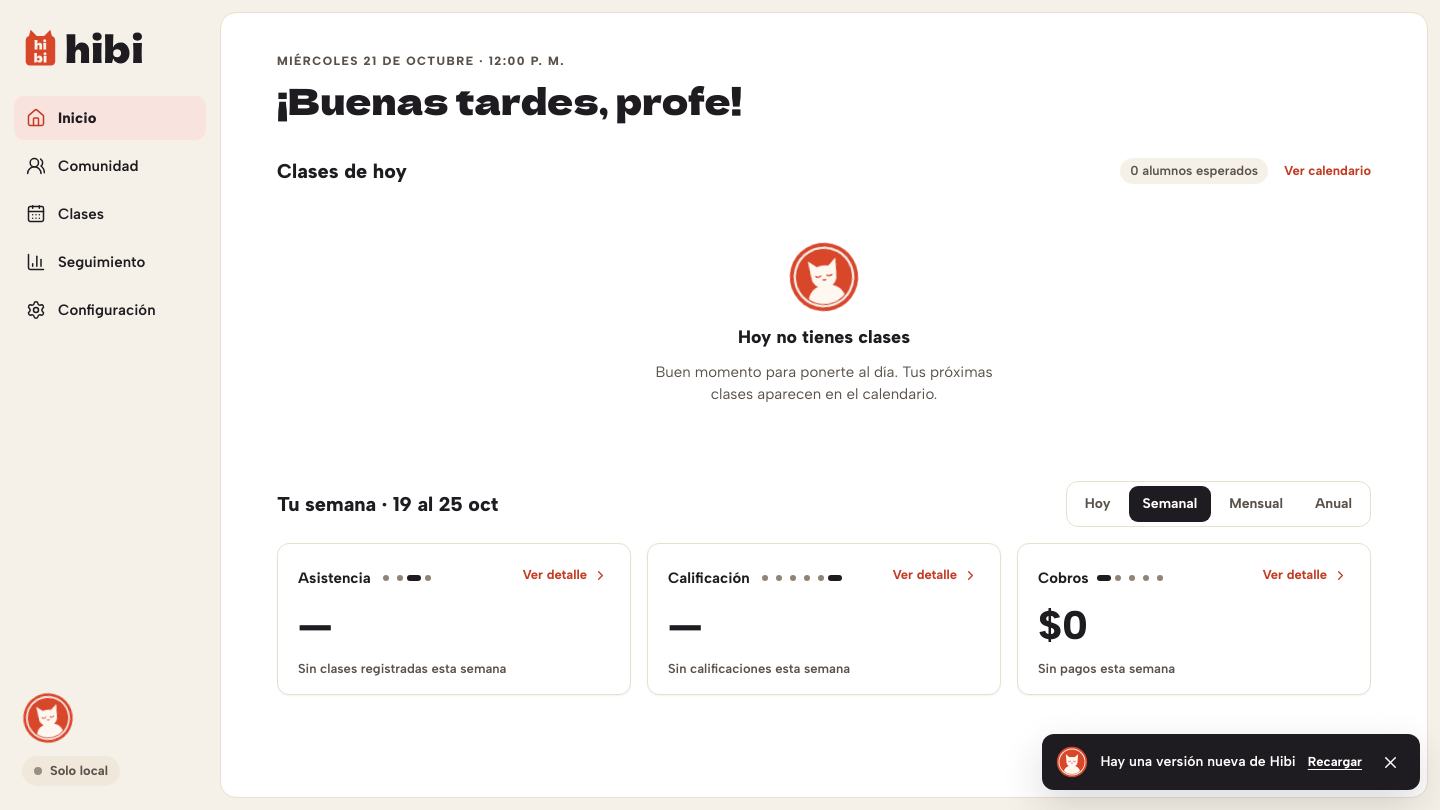
Scenario: new deploy notice › can be dismissed and speaks Spanish
Expected: the button "Recargar" is shown, [1308,753,1362,771]
Click the button named "Descartar notificación" at (1390, 762), box [1374,746,1406,778]
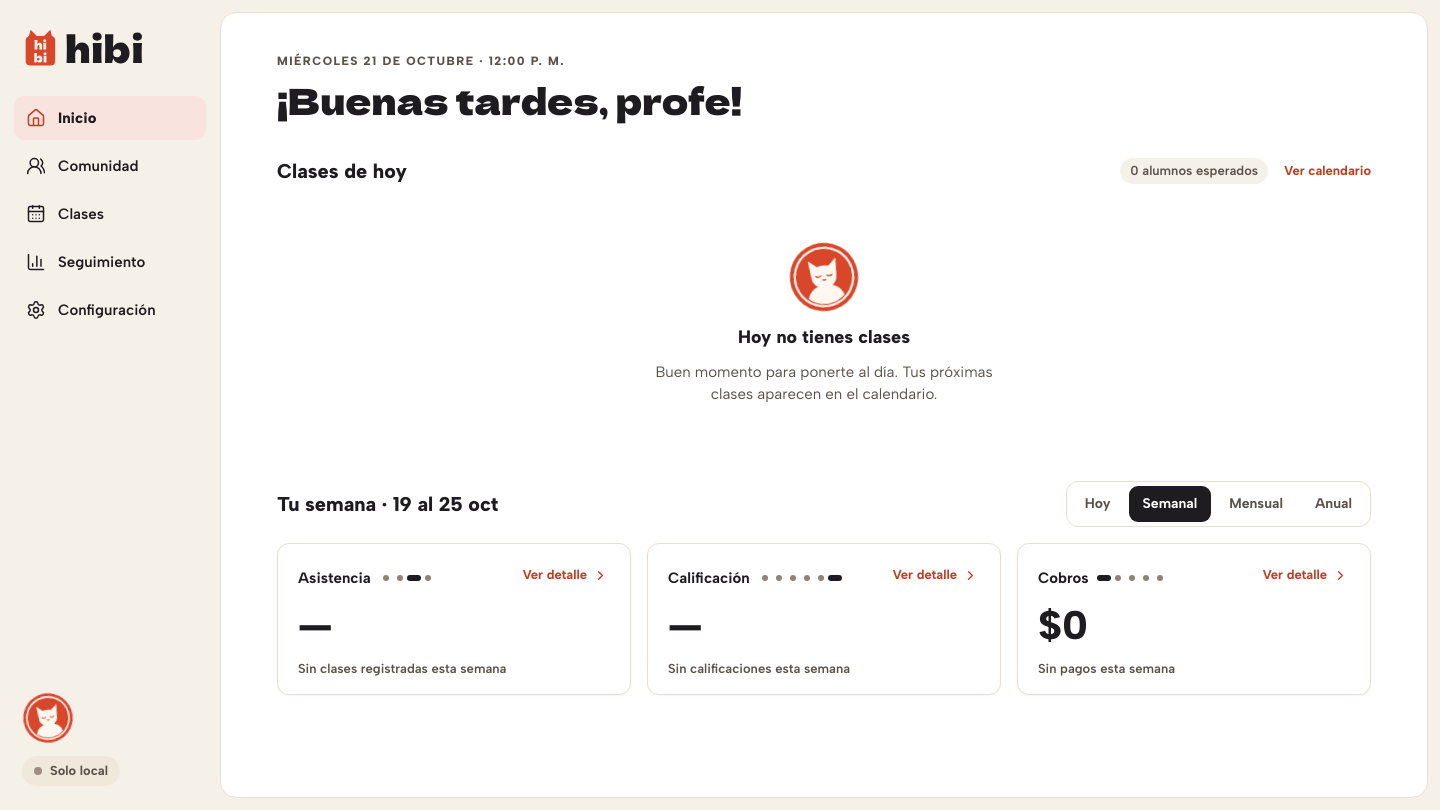
Result: the text "Hay una versión nueva de Hibi" is gone
